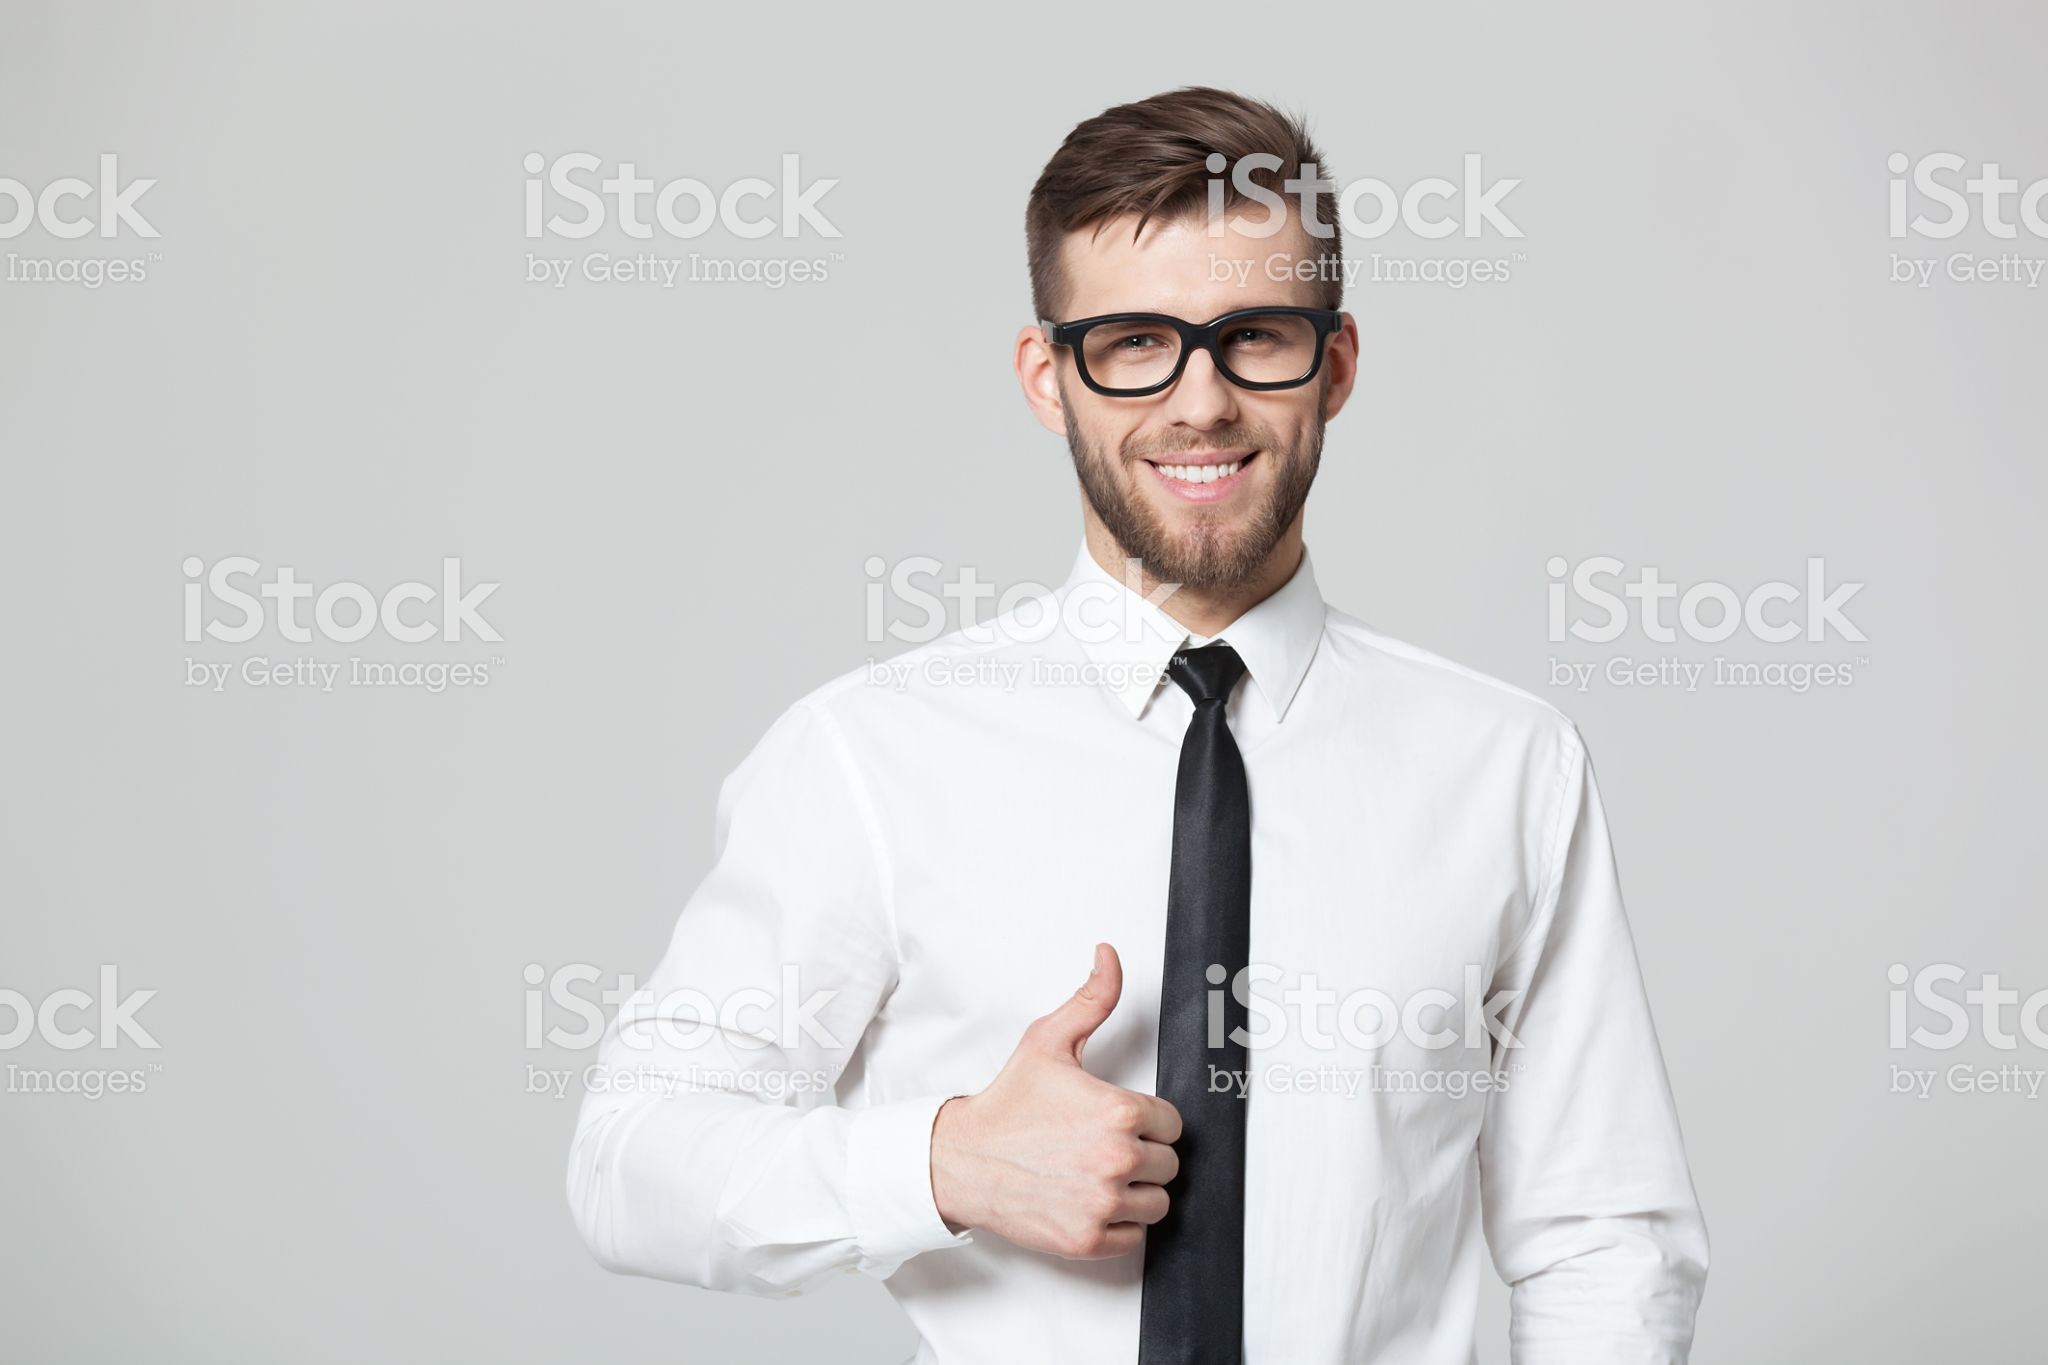thumbsup: (990, 941, 1189, 1266)
